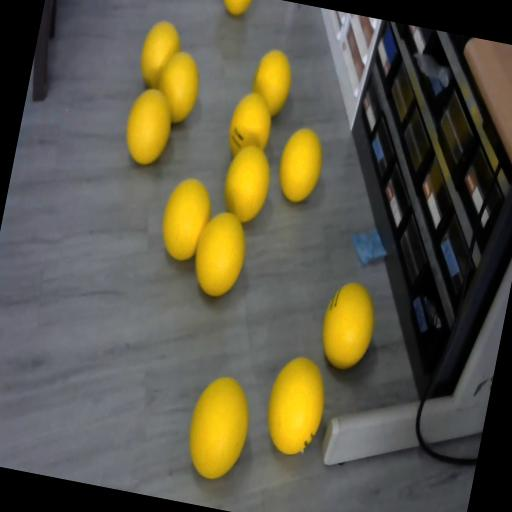FUEL: (180, 370, 256, 482), (259, 352, 332, 458), (314, 276, 382, 373), (186, 205, 252, 301), (156, 174, 218, 264), (216, 140, 276, 227), (120, 85, 178, 169), (272, 124, 328, 206), (248, 46, 298, 118), (136, 18, 184, 92), (218, 0, 254, 19)
